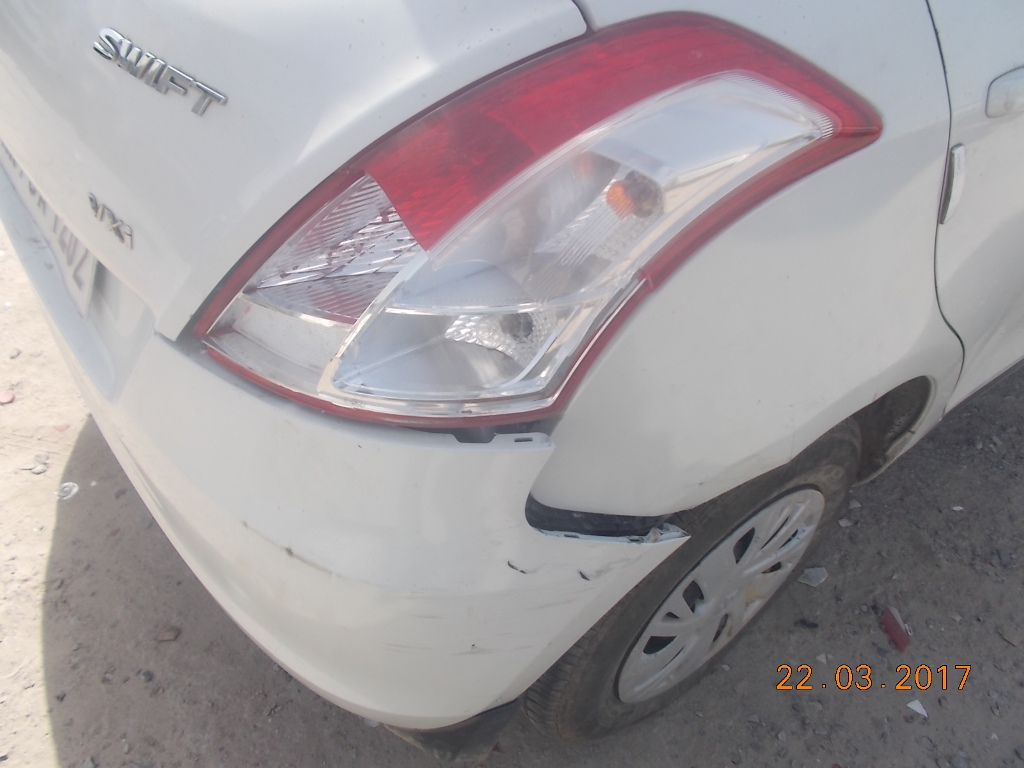Dislocation: (509, 473, 687, 575)
